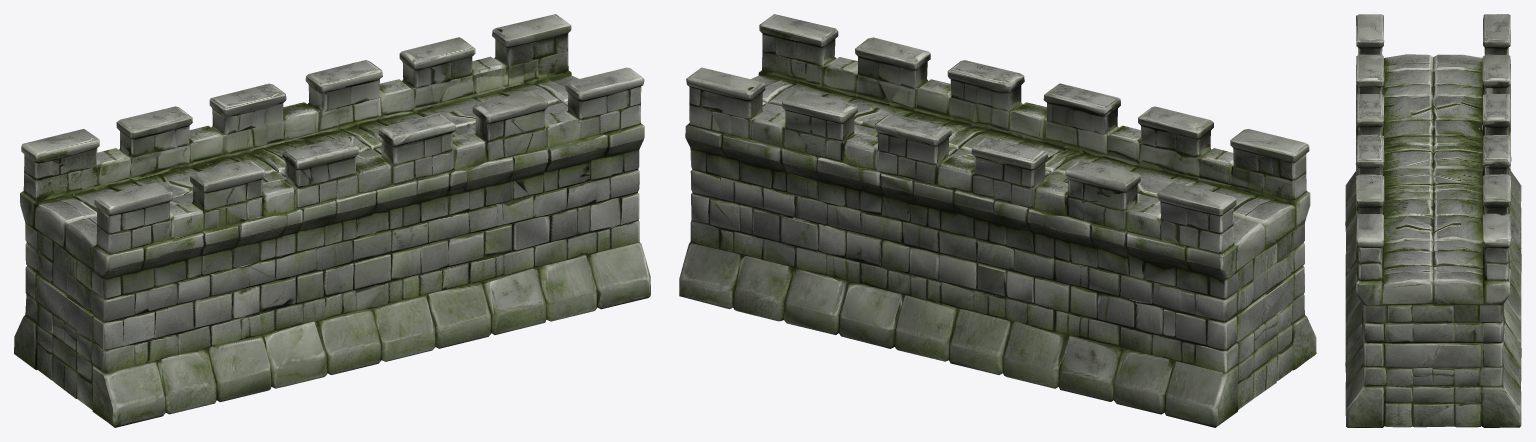
3 renders of one model, left to right at view 1: azimuth 30°, elevation 25°; view 2: azimuth 150°, elevation 25°; view 3: azimuth 270°, elevation 25°, orthographic. The views are drawn at different scales.
Visible parts, largest first — view 1: stone_wall; view 2: stone_wall; view 3: stone_wall.
Part boxes in pixels (left/top/right/bottom): stone_wall: left=14, top=14, right=650, bottom=427; stone_wall: left=679, top=14, right=1316, bottom=427; stone_wall: left=1345, top=14, right=1521, bottom=427.
Size of the model in its own units: 1.9 by 0.7323 by 0.618.
Materials: 1 (1 with a texture image).
